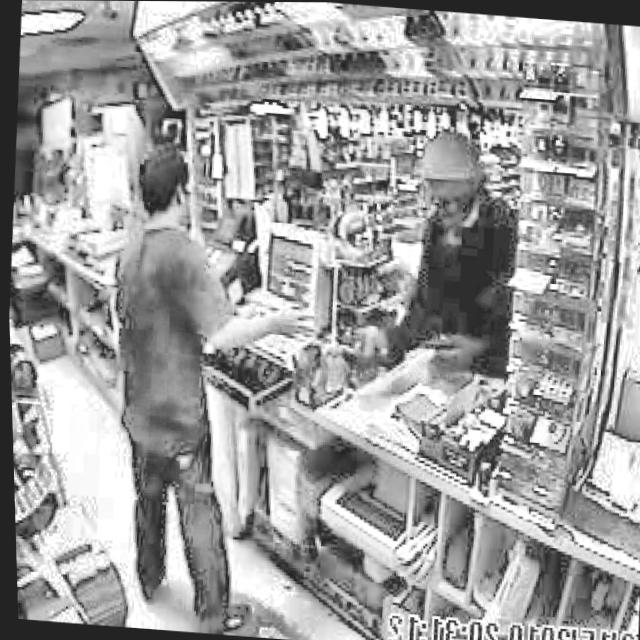robbery: (333, 120, 526, 389)
